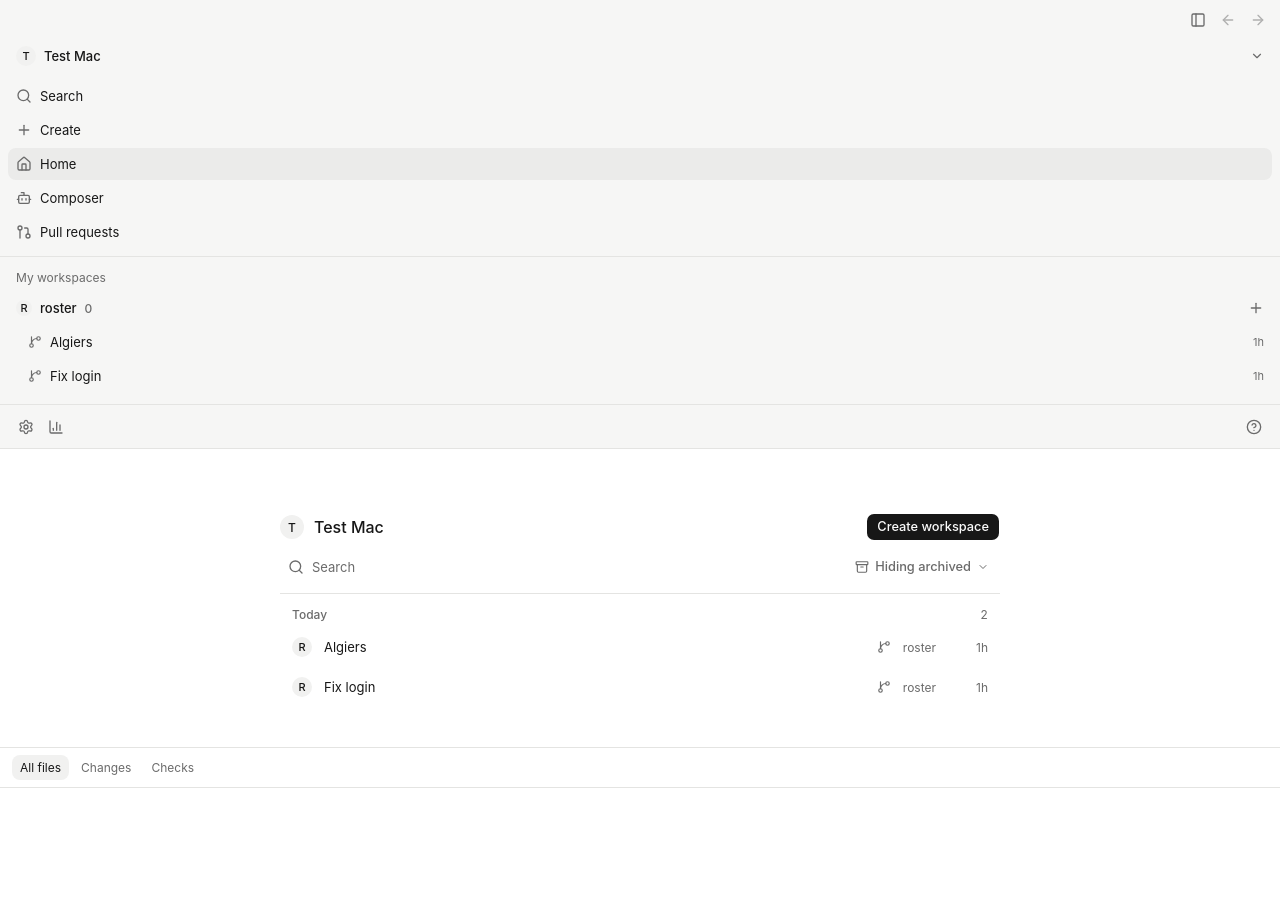
Test: Home › filters by search across title, city, branch and project
Type "login" into the field named "Search workspaces". click: (558, 567)
box: x1=280 y1=549 x2=836 y2=585
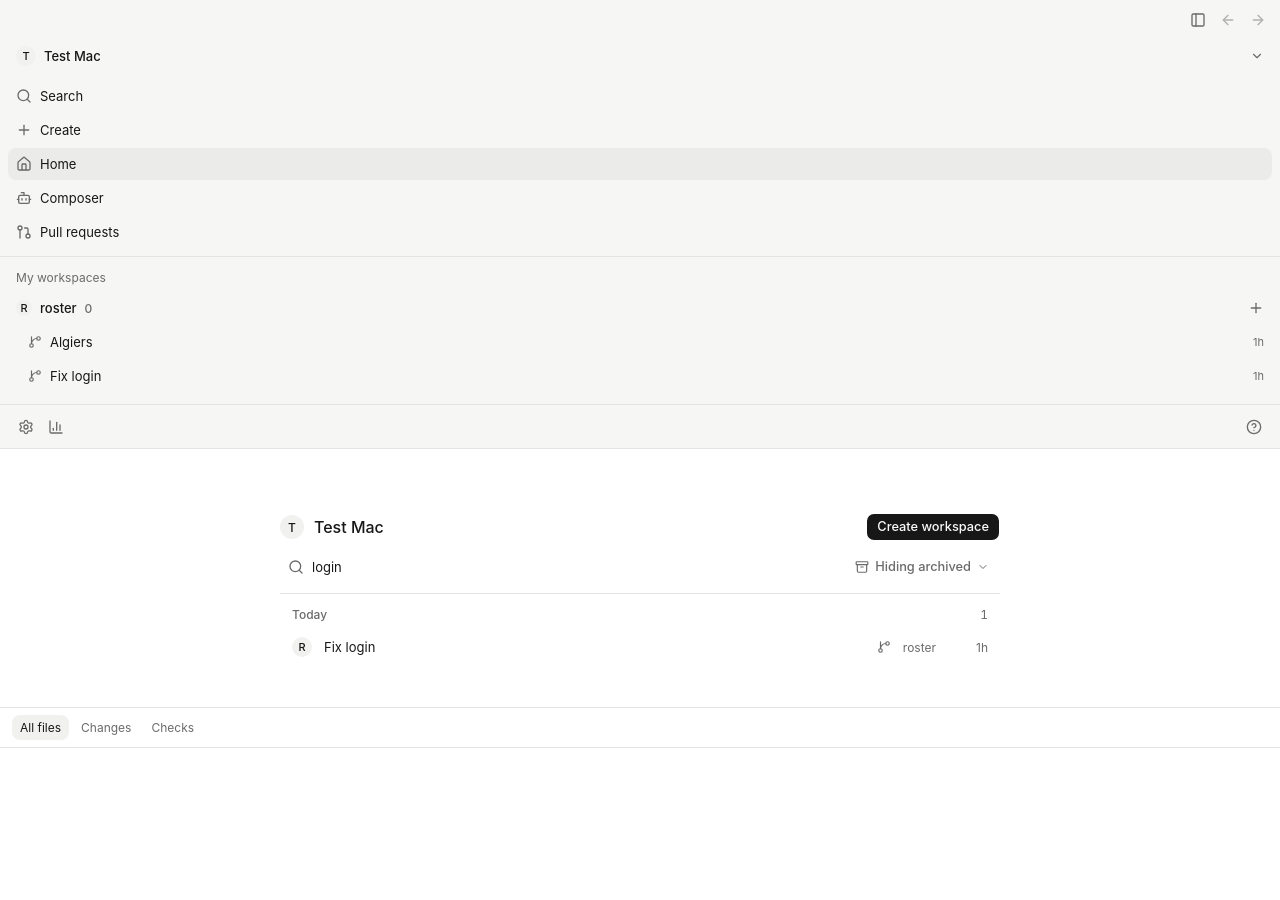
Expected: the text "Fix login" below "Today" is shown, x1=324 y1=639 x2=375 y2=655
Replace the text in the field named "Search workspaces" with "bbb22". click: (558, 567)
box: x1=280 y1=549 x2=836 y2=585
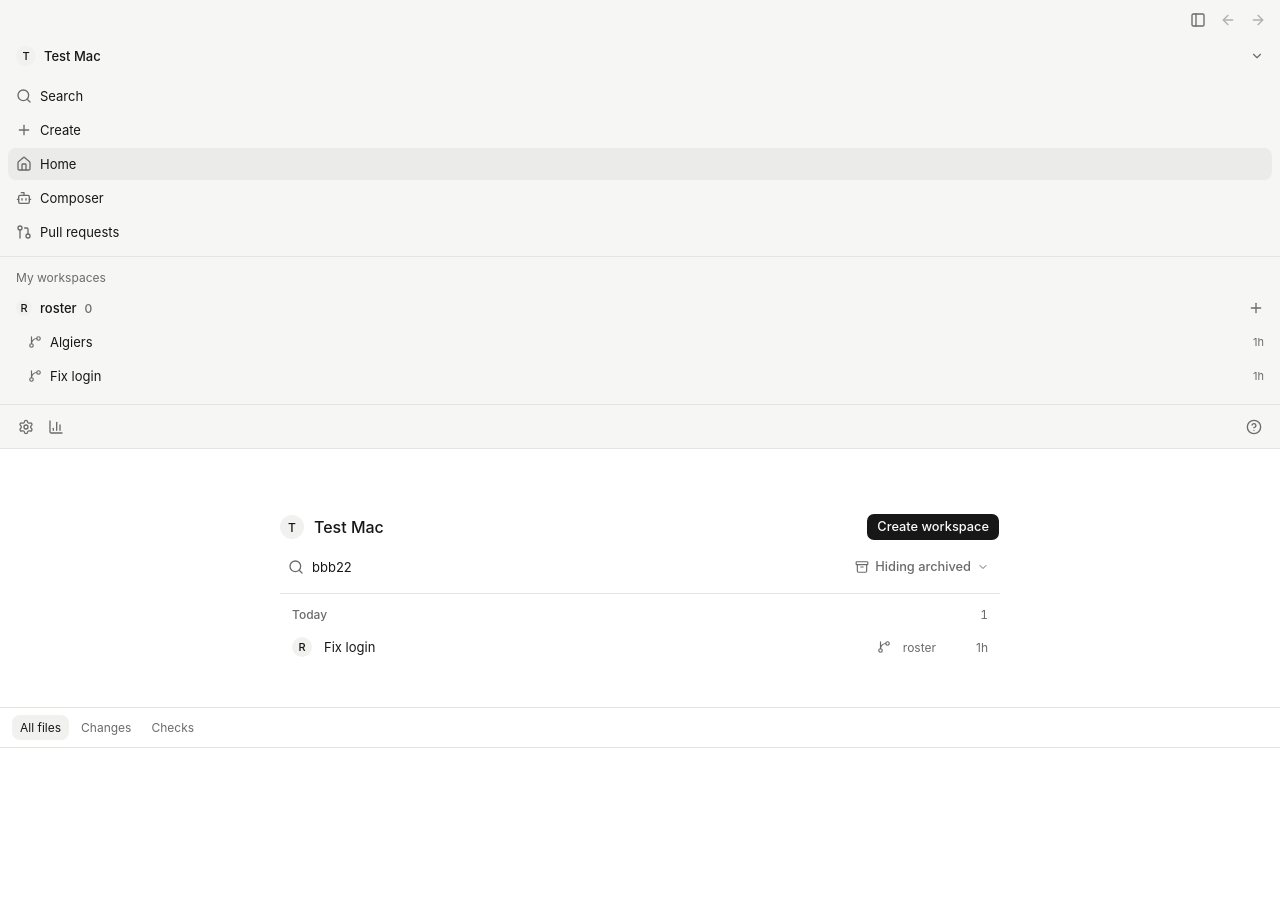
Expected: the text "Fix login" below "Today" is shown, x1=324 y1=639 x2=375 y2=655
Replace the text in the field named "Search workspaces" with "nothing like this". click: (558, 567)
box: x1=280 y1=549 x2=836 y2=585
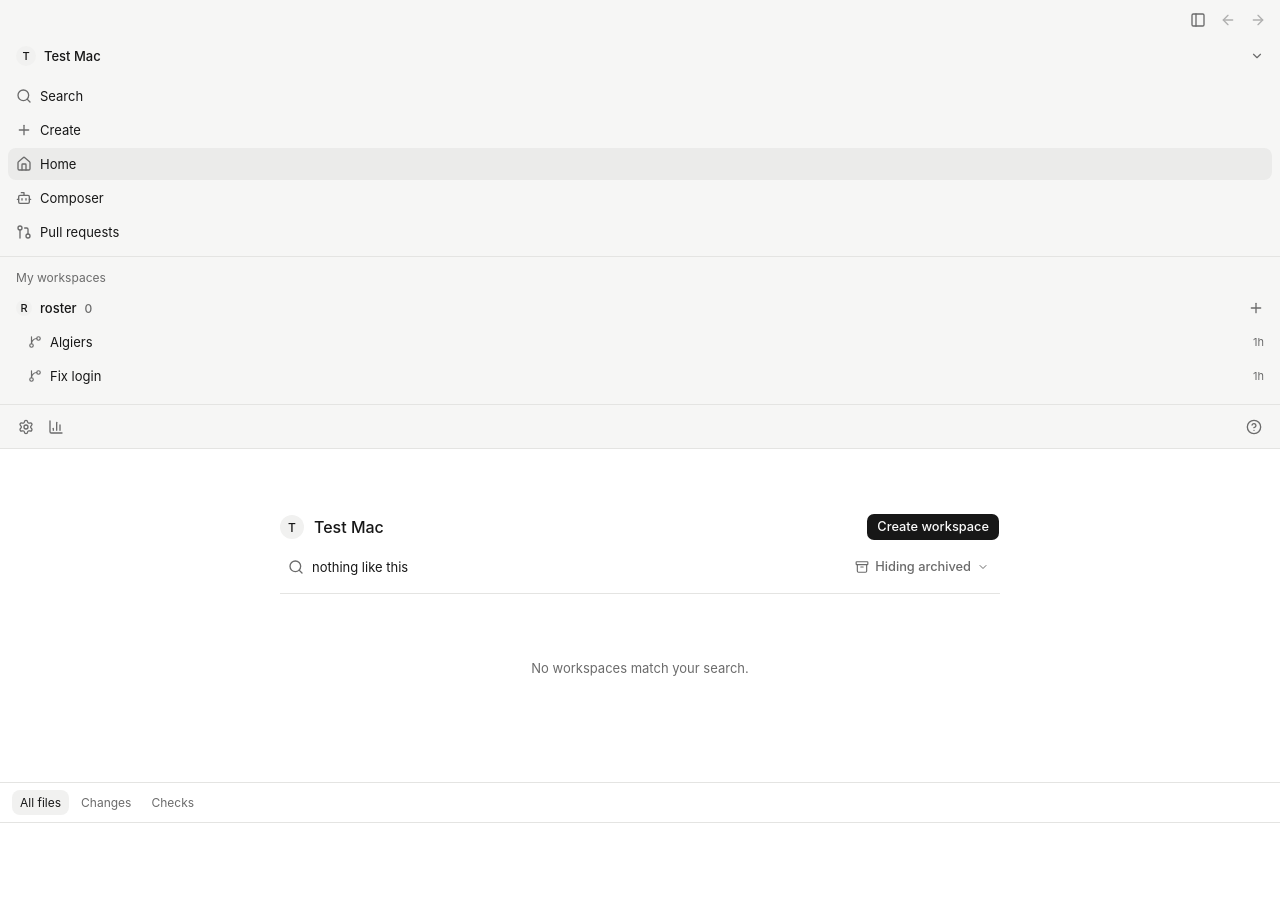
Result: the text "No workspaces match your search." is shown at x1=531 y1=660 x2=749 y2=676
